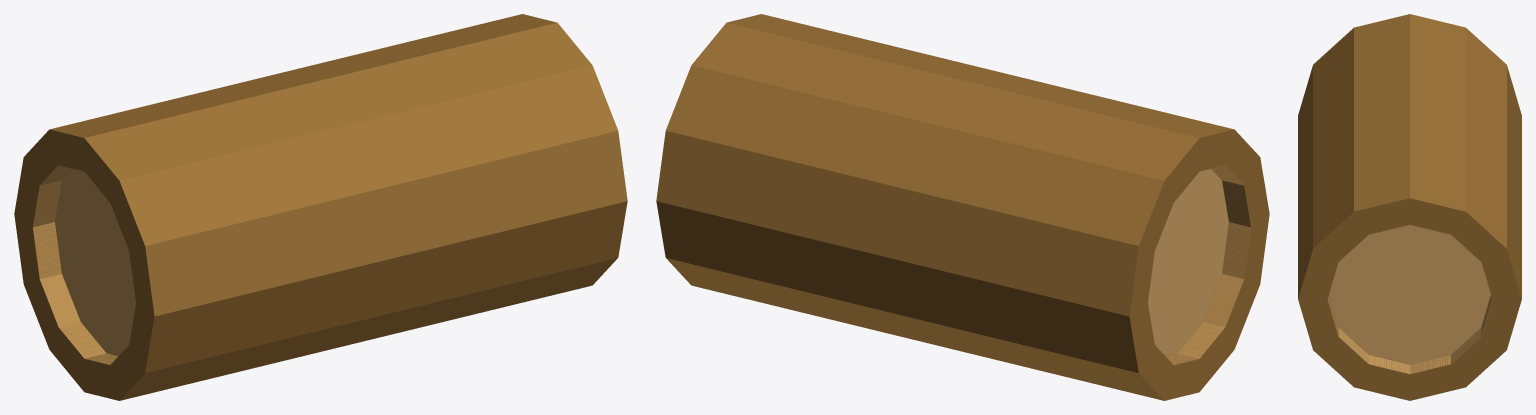
The model's file is Stronk.fbx.
3 views of the same model, side by side, from view 1: azimuth 30°, elevation 25°; view 2: azimuth 150°, elevation 25°; view 3: azimuth 270°, elevation 25° (orthographic). The views are drawn at different scales.
Parts seen in each view (by area): view 1: Stronk; view 2: Stronk; view 3: Stronk.
Boxes of the visible parts, x1=… form: Stronk: x1=14, y1=14, x2=627, y2=400; Stronk: x1=656, y1=14, x2=1269, y2=400; Stronk: x1=1298, y1=14, x2=1521, y2=400.
Size of the model in its own units: 389 by 200 by 200.
